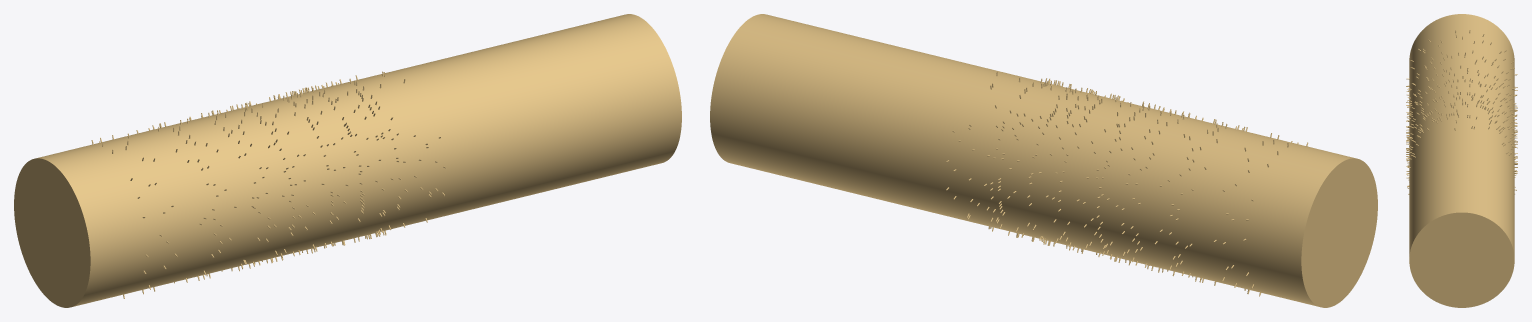
Rendered from Schumann-Schubert-romantic-airs.glb.
The picture shows the model from 3 angles, left to right: view 1: azimuth 30°, elevation 25°; view 2: azimuth 150°, elevation 25°; view 3: azimuth 270°, elevation 25°; orthographic projection. The views are drawn at different scales.
Parts seen in each view (by area): view 1: cylinder_body; view 2: cylinder_body; view 3: cylinder_body.
Boxes of the visible parts, x1=… form: cylinder_body: x1=14, y1=14, x2=681, y2=307; cylinder_body: x1=710, y1=14, x2=1377, y2=307; cylinder_body: x1=1409, y1=14, x2=1514, y2=307.
Bounding box in the file's own units: 0.214 × 0.051 × 0.051.
